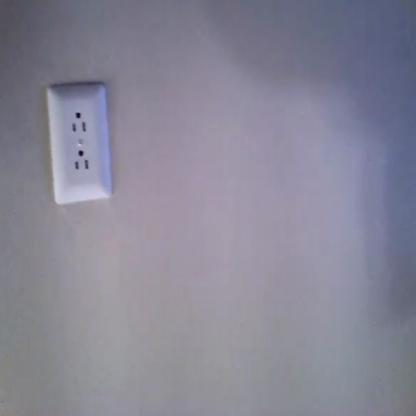OUTLET: (50, 87, 107, 203)
